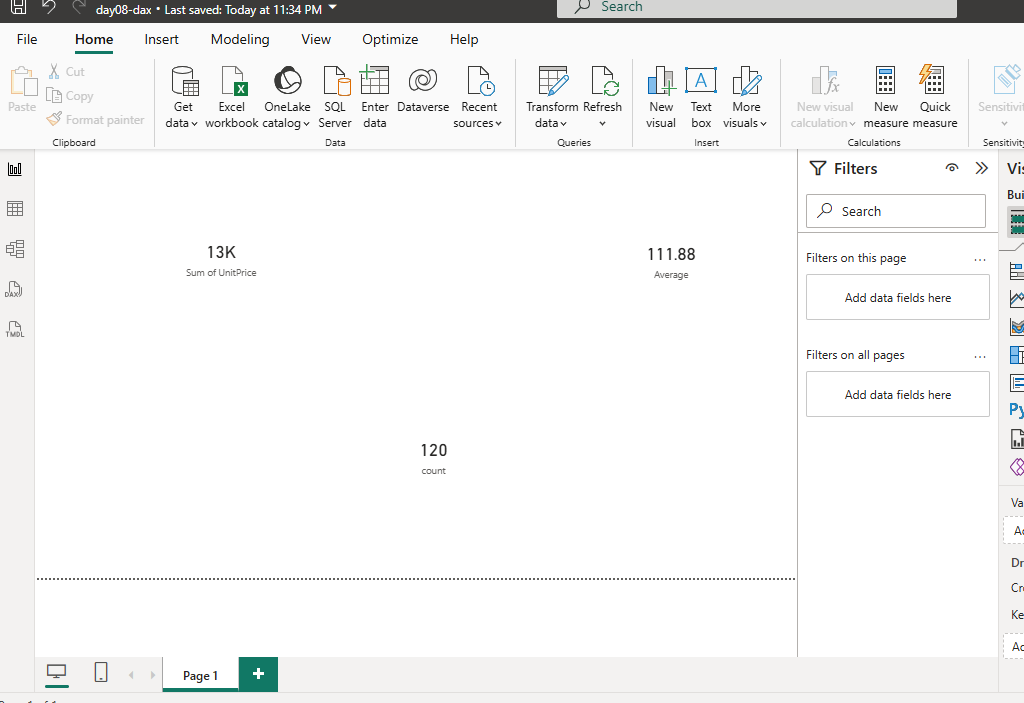

Layout of this report page (visuals, bound fields, positions):
{"tool":"powerbi","page":{"name":"Page 1","canvas":[1280,720],"ordinal":0},"visuals":[{"type":"clusteredColumnChart","fields":{"Y":["Sum(powerbi_practice_dataset.UnitPrice)"]},"box":[127.7,16.8,346,330.9],"z":0},{"type":"clusteredColumnChart","fields":{"Y":["powerbi_practice_dataset.count"]},"box":[455.2,386.4,367.9,334.3],"z":1},{"type":"clusteredColumnChart","fields":{"Y":["powerbi_practice_dataset.Average"]},"box":[732.4,23.5,423.3,324.2],"z":2}]}

Visuals, with their boxes on the page's 1280x720 design canvas (x1, y1, x2, y2). These are canvas units, not pixel positions in the 1024x703 screenshot, which may show the page scaled, cropped or inside an application window:
clusteredColumnChart - Sum(powerbi_practice_dataset.UnitPrice): (128, 17, 474, 348)
clusteredColumnChart - powerbi_practice_dataset.count: (455, 386, 823, 721)
clusteredColumnChart - powerbi_practice_dataset.Average: (732, 24, 1156, 348)
